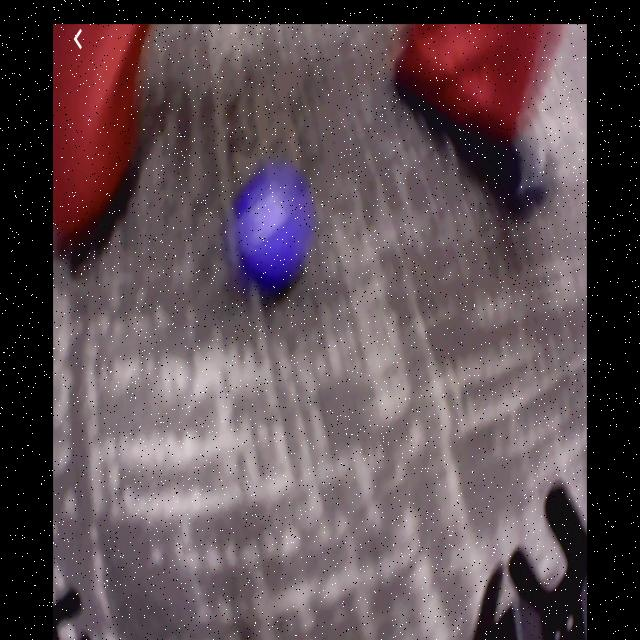ball: (233, 173, 309, 284)
